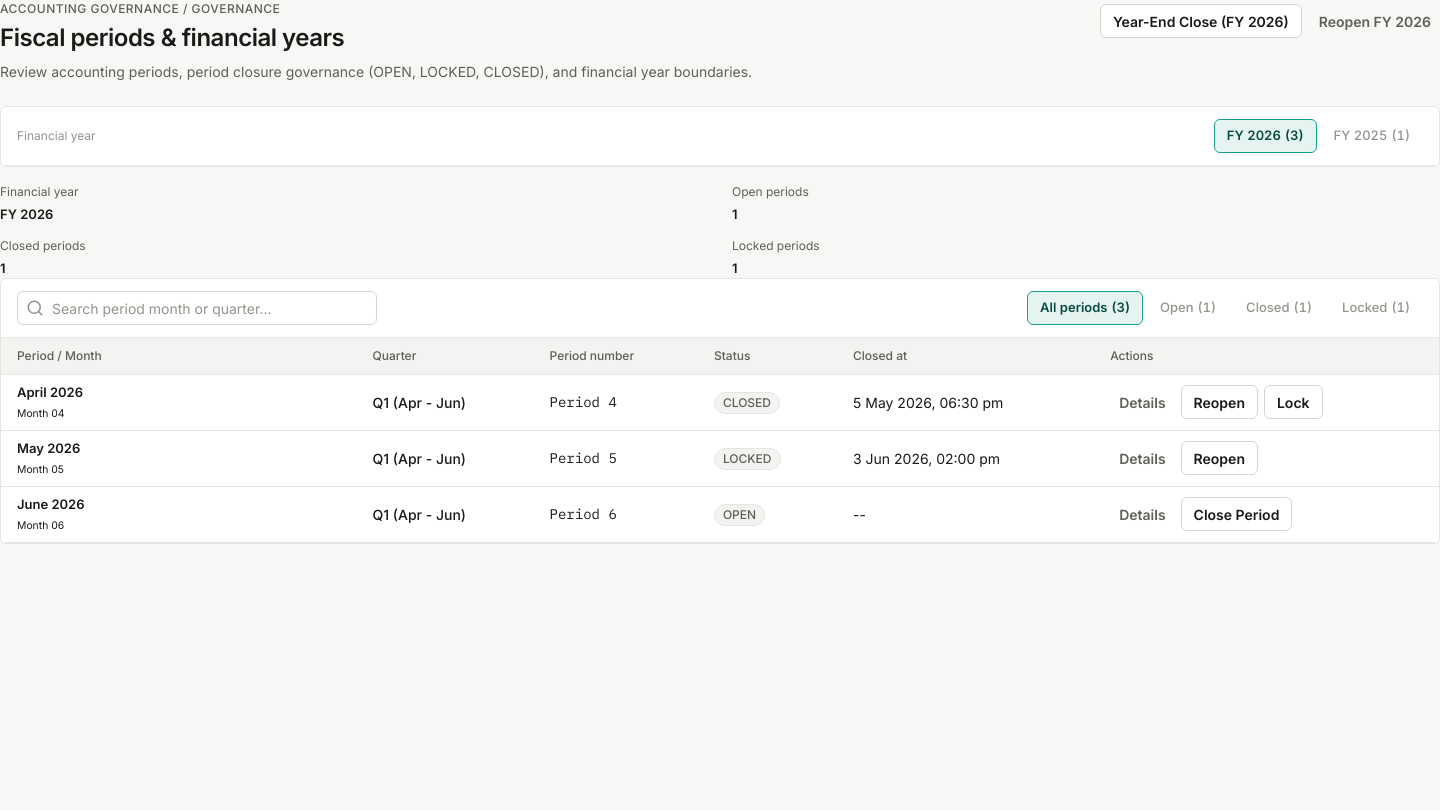
it: FiscalPeriodsPage › executes Reopen Period confirmation flow
Expected: the text "April 2026" is shown, [17,384,83,400]
April 2026 is CLOSED, so it has Reopen and Lock buttons
Click the button "Reopen" in the row of "April".
click(1219, 402)  # box [1181,385,1258,419]
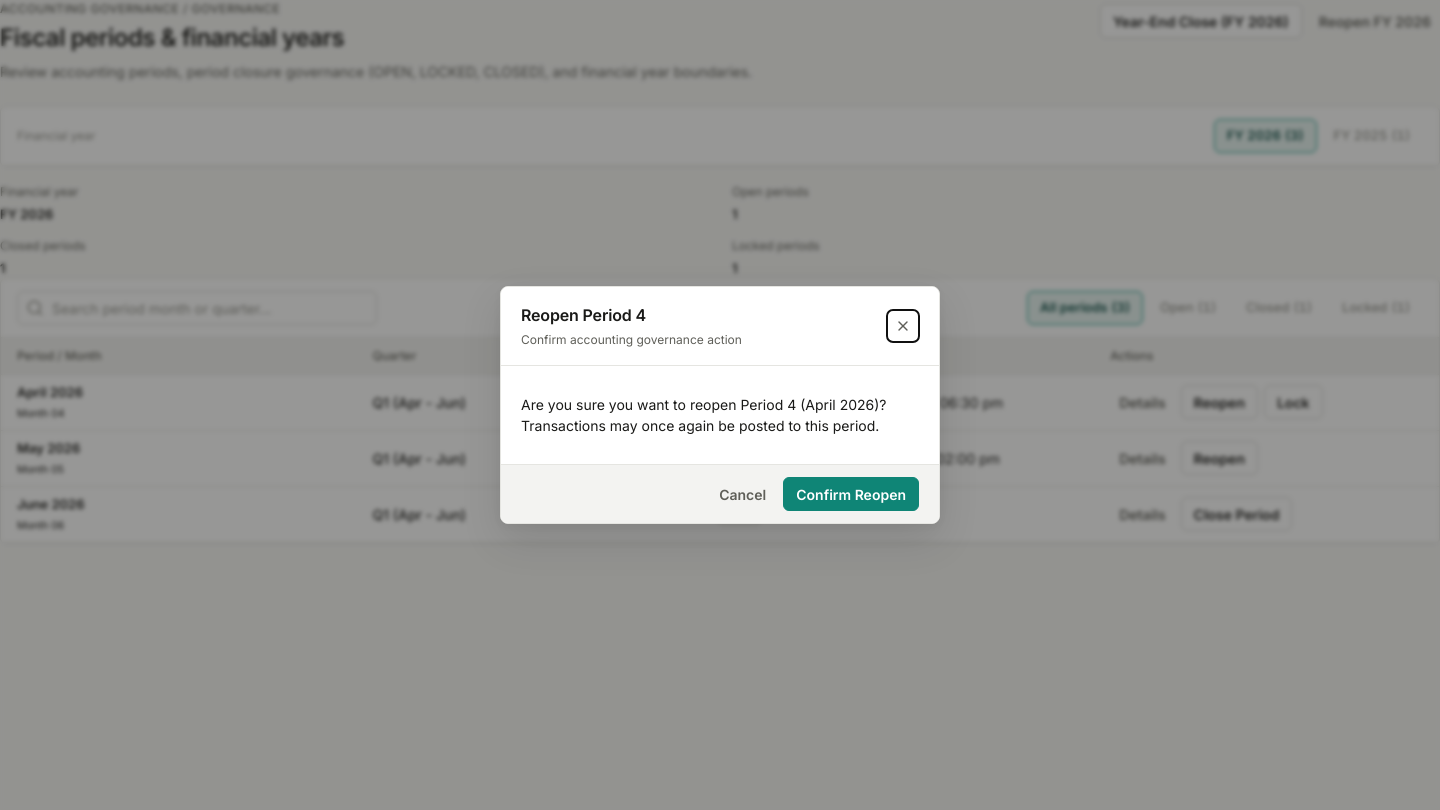
Result: the heading "Reopen Period 4" is shown at [521,305,646,325]
Click the button "Confirm Reopen".
click(851, 494)  # box [783,477,919,511]
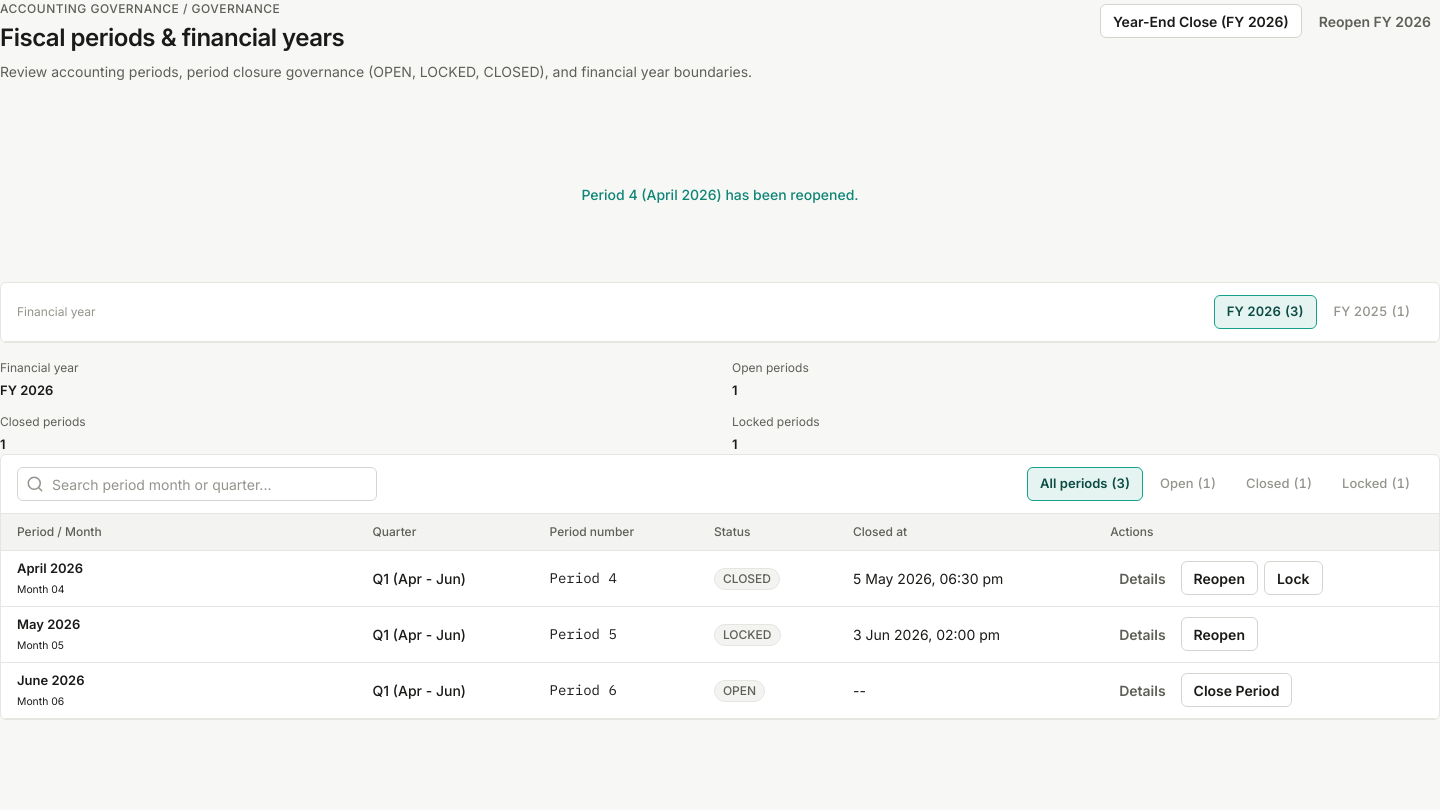
Result: the text "Period 4 (April 2026) has been reopened." is shown at [581,186,858,203]
